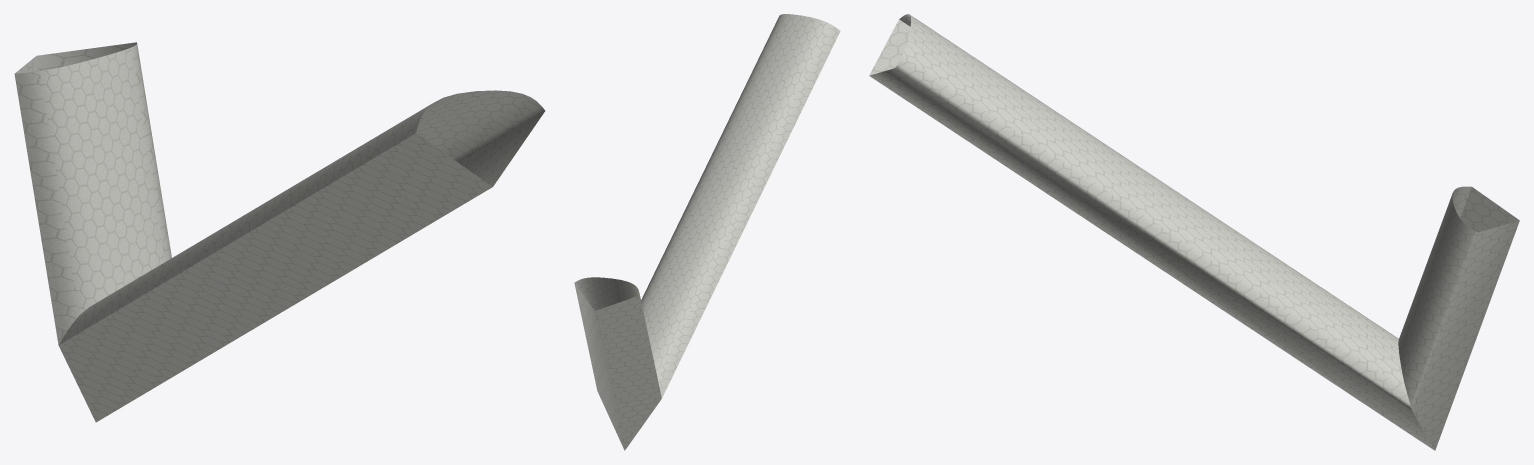
The model's file is 03leg1-1.obj.
3 renders of one model, left to right at view 1: azimuth 30°, elevation 25°; view 2: azimuth 150°, elevation 25°; view 3: azimuth 270°, elevation 25°, orthographic. The views are drawn at different scales.
Parts seen in each view (by area): view 1: Line001; view 2: Line001; view 3: Line001.
Part boxes in pixels (box(x1,y1,x2,y2)): Line001: box(14, 42, 545, 422); Line001: box(574, 14, 840, 450); Line001: box(869, 14, 1519, 450).
Bounding box in the file's own units: 0.3468 × 1.57 × 2.17.
